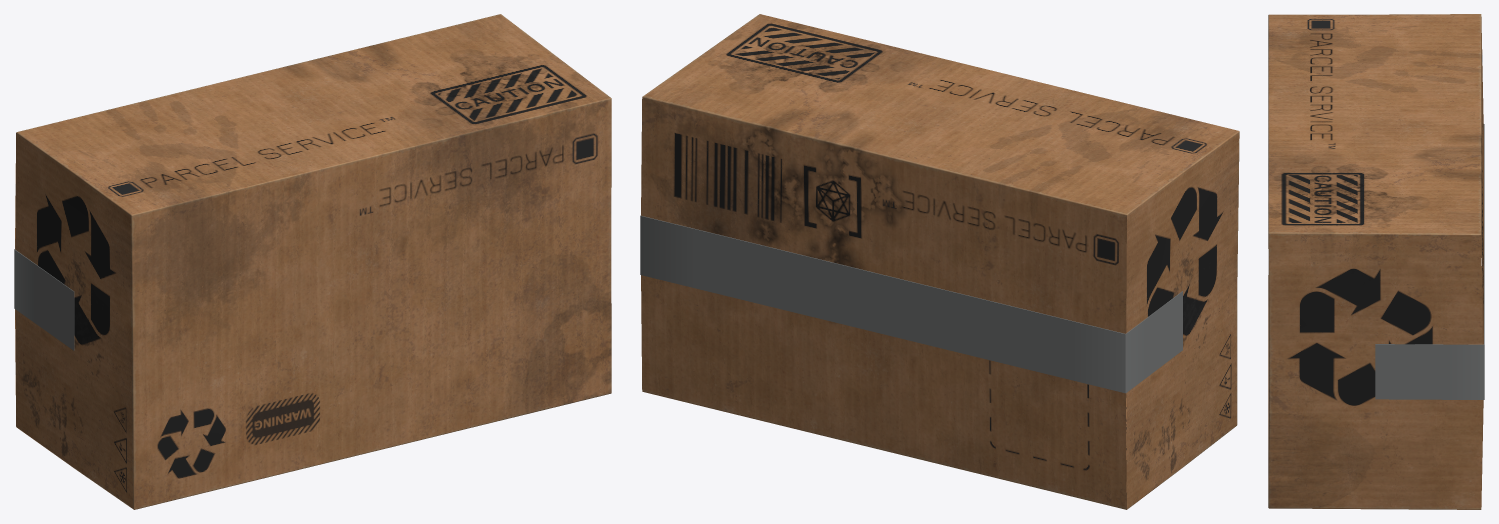
3 renders of one model, left to right at view 1: azimuth 30°, elevation 25°; view 2: azimuth 150°, elevation 25°; view 3: azimuth 270°, elevation 25°, orthographic. The views are drawn at different scales.
Parts seen in each view (by area): view 1: box, tape; view 2: box, tape; view 3: box, tape.
Part boxes in pixels (bbox=[...]): box: bbox=[15, 14, 611, 509]; tape: bbox=[14, 249, 74, 350]; box: bbox=[641, 14, 1239, 509]; tape: bbox=[640, 215, 1182, 393]; box: bbox=[1268, 14, 1483, 509]; tape: bbox=[1375, 124, 1484, 399].
Size of the model in its own units: 0.8596 by 0.5 by 0.3552.
2 materials, 2 textured.
